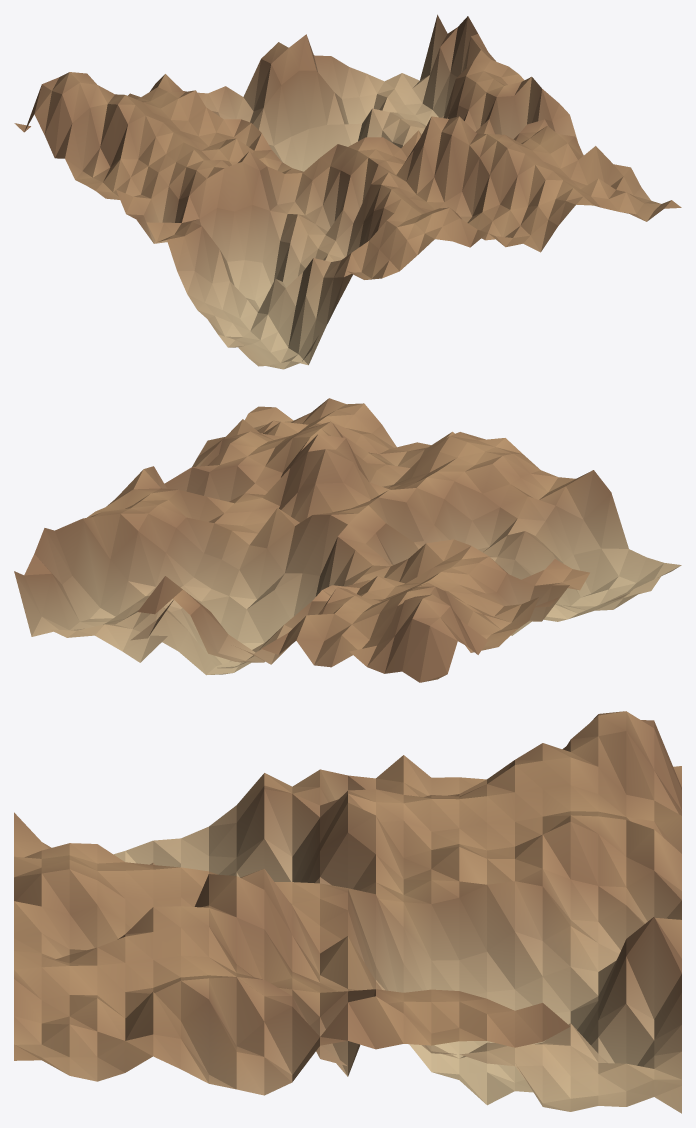
The model's file is desert_lod2.glb.
The picture shows the model from 3 angles, top to bottom: view 1: azimuth 30°, elevation 25°; view 2: azimuth 150°, elevation 25°; view 3: azimuth 270°, elevation 25°; orthographic projection. The views are drawn at different scales.
Parts seen in each view (by area): view 1: world; view 2: world; view 3: world.
Part boxes in pixels (x1=…): world: x1=14, y1=14, x2=681, y2=369; world: x1=14, y1=398, x2=681, y2=682; world: x1=14, y1=711, x2=681, y2=1113.
Bounding box in the file's own units: 2 × 0.7584 × 2.
